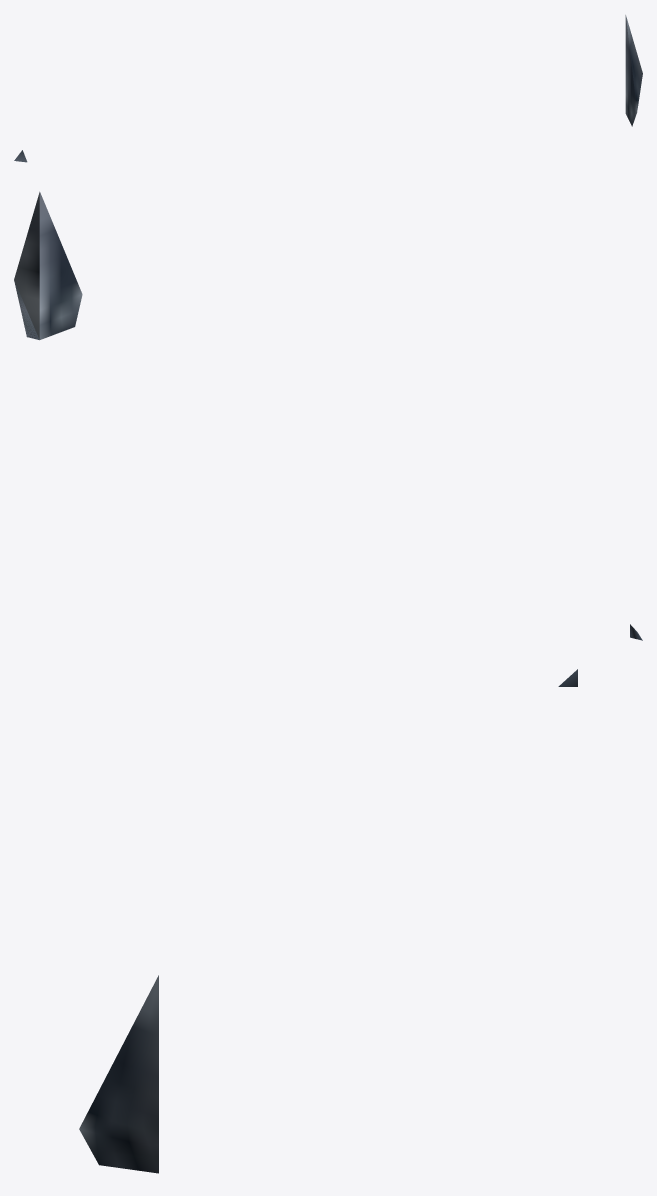
3 renders of one model, top to bottom at view 1: azimuth 30°, elevation 25°; view 2: azimuth 150°, elevation 25°; view 3: azimuth 270°, elevation 25°, orthographic. The views are drawn at different scales.
Visible parts, largest first — view 1: 30436272704361734727_0; view 2: 30436272704361734727_0; view 3: 30436272704361734727_0.
Boxes of the visible parts, x1,y1,x2,y2 form: 30436272704361734727_0: (14,15,642,162); 30436272704361734727_0: (14,191,642,640); 30436272704361734727_0: (79,669,577,1173).
Bounding box in the file's own units: 9.36 × 1.7 × 3.86.
Materials: 1 (1 with a texture image).
